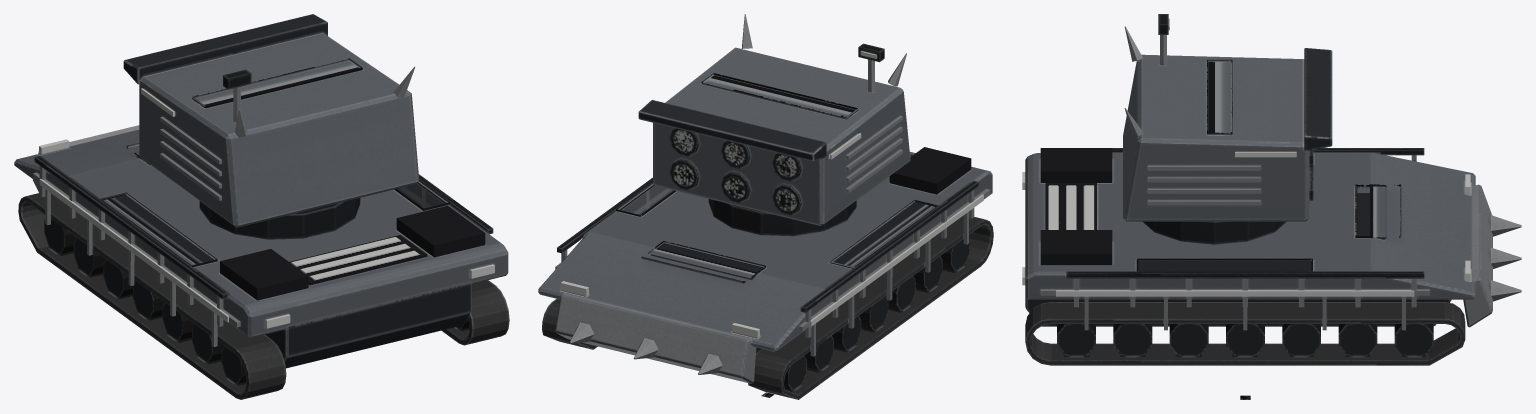
Rendered from chs_hellfire.fbx.
The picture shows the model from 3 angles, left to right: view 1: azimuth 30°, elevation 25°; view 2: azimuth 150°, elevation 25°; view 3: azimuth 270°, elevation 25°; orthographic projection. The views are drawn at different scales.
Parts seen in each view (by area): view 1: base_bar, turret_bar, trackL_bar, base_glow_running_bar, trackR_bar; view 2: base_bar, turret_bar, trackL_bar, base_glow_running_bar, turret_glow_weapon_bar, trackR_bar, base_glow_head_bar; view 3: base_bar, turret_bar, trackR_bar, base_glow_running_bar.
Boxes of the visible parts, bbox=[...] form: base_bar: bbox=[14, 125, 508, 368]; turret_bar: bbox=[123, 14, 419, 239]; trackL_bar: bbox=[18, 193, 286, 399]; base_glow_running_bar: bbox=[39, 179, 494, 328]; trackR_bar: bbox=[441, 280, 509, 345]; base_bar: bbox=[538, 147, 992, 383]; turret_bar: bbox=[638, 14, 910, 236]; trackL_bar: bbox=[748, 215, 993, 399]; base_glow_running_bar: bbox=[810, 155, 983, 326]; turret_glow_weapon_bar: bbox=[674, 130, 796, 211]; trackR_bar: bbox=[542, 298, 597, 349]; base_glow_head_bar: bbox=[560, 281, 759, 338]; base_bar: bbox=[1025, 148, 1521, 330]; turret_bar: bbox=[1123, 14, 1332, 244]; trackR_bar: bbox=[1025, 302, 1465, 365]; base_glow_running_bar: bbox=[1022, 172, 1414, 296].
Size of the model in its own units: 584 by 746 by 976.
2 materials, 2 textured.
